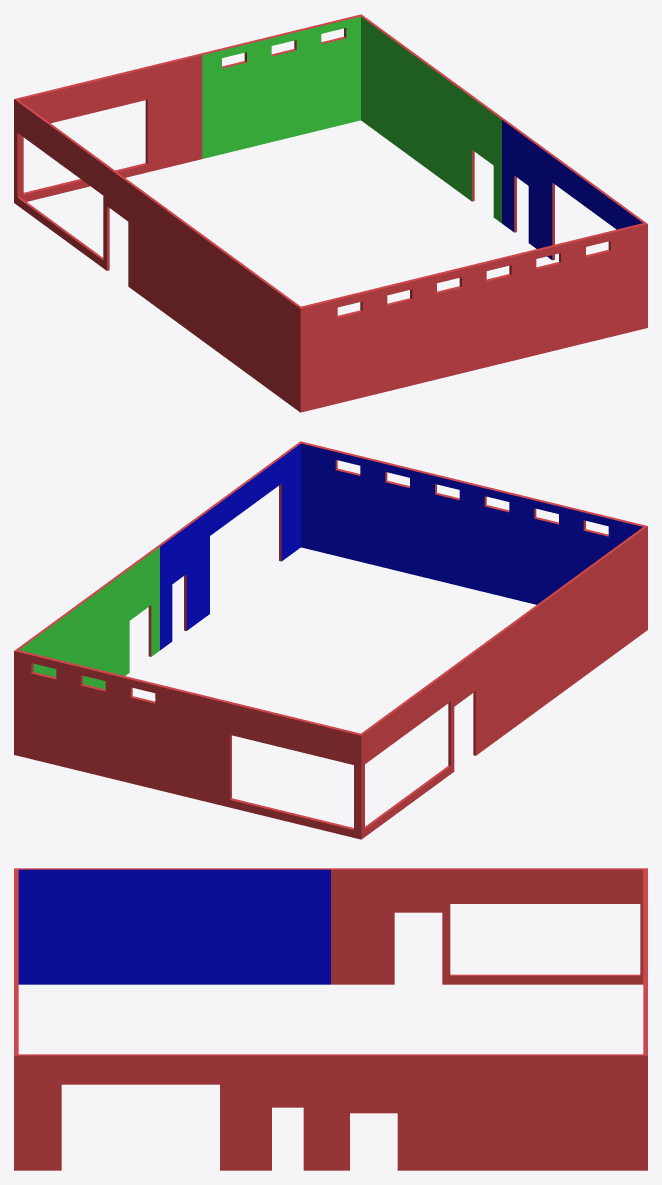
File: gebaeude-neu.fbx
3 views of the same model, one above another, from view 1: azimuth 30°, elevation 25°; view 2: azimuth 150°, elevation 25°; view 3: azimuth 270°, elevation 25° (orthographic). The views are drawn at different scales.
Visible parts, largest first — view 1: gebaude_aussen; view 2: gebaude_aussen; view 3: gebaude_aussen.
Part boxes in pixels (x1,y1,x2,y2): gebaude_aussen: (14,14,647,412); gebaude_aussen: (14,441,647,839); gebaude_aussen: (14,868,647,1170).
Size of the model in its own units: 1400 by 400 by 2000.
